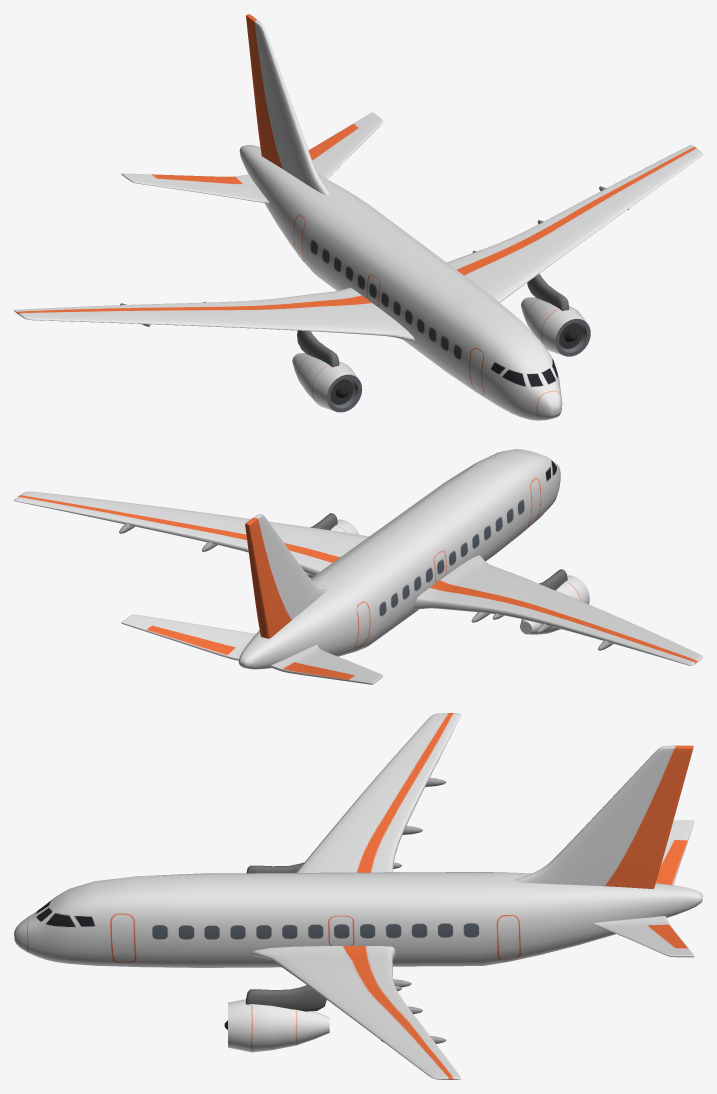
Rendered from goldenplane.glb.
3 renders of one model, top to bottom at view 1: azimuth 30°, elevation 25°; view 2: azimuth 150°, elevation 25°; view 3: azimuth 270°, elevation 25°, orthographic. The views are drawn at different scales.
Parts seen in each view (by area): view 1: airbus318, wings, wing-back-vertical, turbine, wings-back-horizontal, turbine-pad; view 2: airbus318, wings, wing-back-vertical, wings-back-horizontal, turbine, turbine-pad; view 3: airbus318, wings, wing-back-vertical, turbine, wings-back-horizontal, turbine-pad.
Boxes of the visible parts, bbox=[...] form: airbus318: bbox=[239, 145, 562, 420]; wings: bbox=[14, 145, 702, 341]; wing-back-vertical: bbox=[246, 14, 329, 195]; turbine: bbox=[292, 297, 590, 412]; wings-back-horizontal: bbox=[121, 112, 383, 203]; turbine-pad: bbox=[297, 273, 569, 367]; airbus318: bbox=[238, 449, 560, 669]; wings: bbox=[14, 491, 702, 665]; wing-back-vertical: bbox=[245, 514, 329, 638]; wings-back-horizontal: bbox=[121, 614, 382, 684]; turbine: bbox=[306, 519, 589, 634]; turbine-pad: bbox=[310, 513, 567, 590]; airbus318: bbox=[14, 872, 702, 967]; wings: bbox=[251, 713, 461, 1079]; wing-back-vertical: bbox=[515, 745, 693, 888]; turbine: bbox=[224, 999, 329, 1052]; wings-back-horizontal: bbox=[592, 820, 694, 957]; turbine-pad: bbox=[245, 862, 326, 1011].
Size of the model in its own units: 4.66 by 1.44 by 3.71.
Materials: 1 (1 with a texture image).
